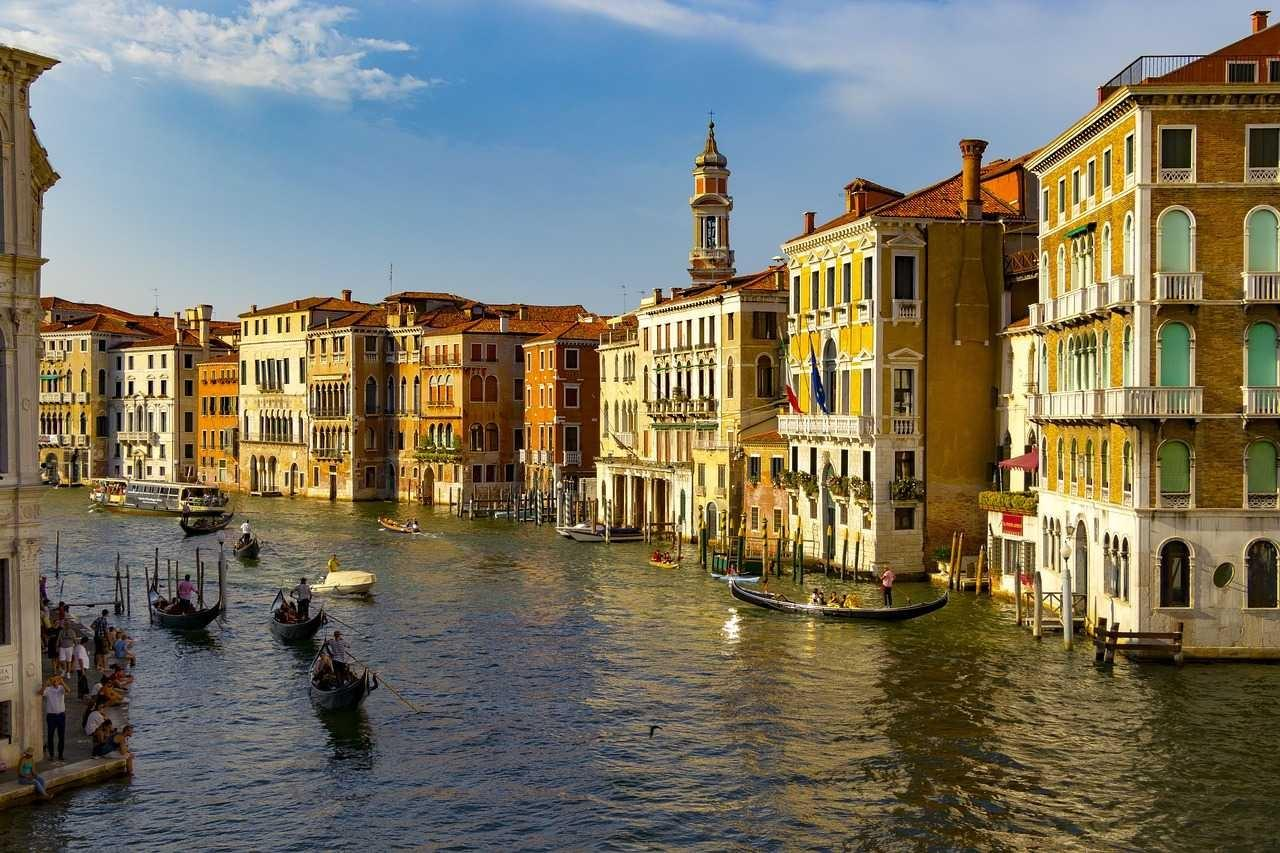kayak: (730, 578, 950, 623), (2, 748, 132, 807), (87, 479, 230, 516), (309, 661, 375, 712), (150, 594, 224, 630), (271, 605, 328, 643), (310, 568, 376, 597), (556, 522, 645, 543), (179, 512, 234, 537), (234, 525, 258, 560), (377, 515, 419, 533), (650, 551, 680, 569)
